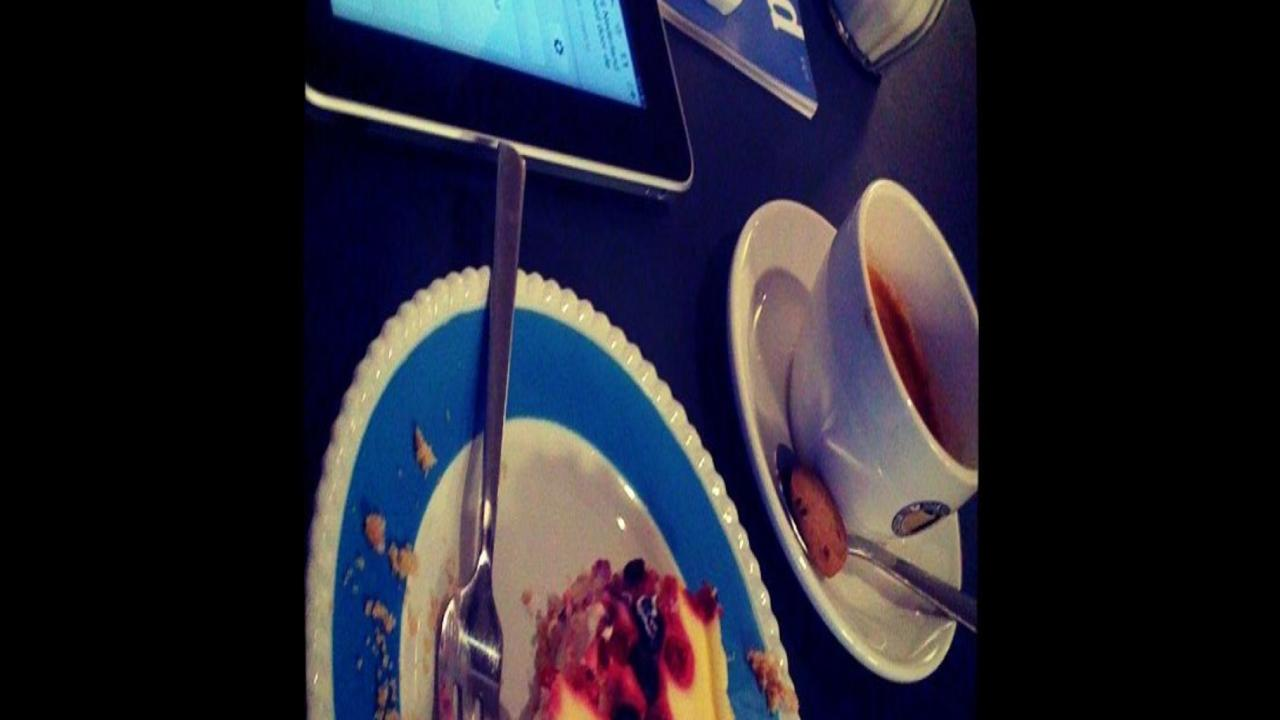fork: (435, 138, 527, 720)
